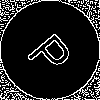P: (25, 25, 81, 79)
